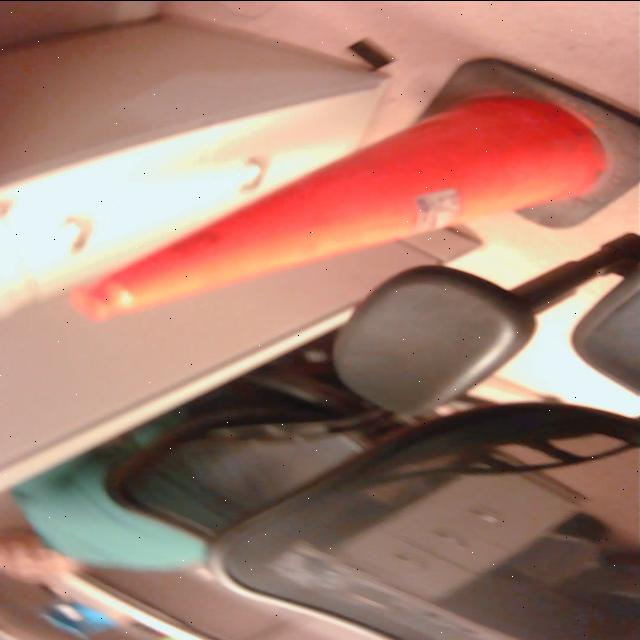traffic cone: (62, 53, 640, 324)
